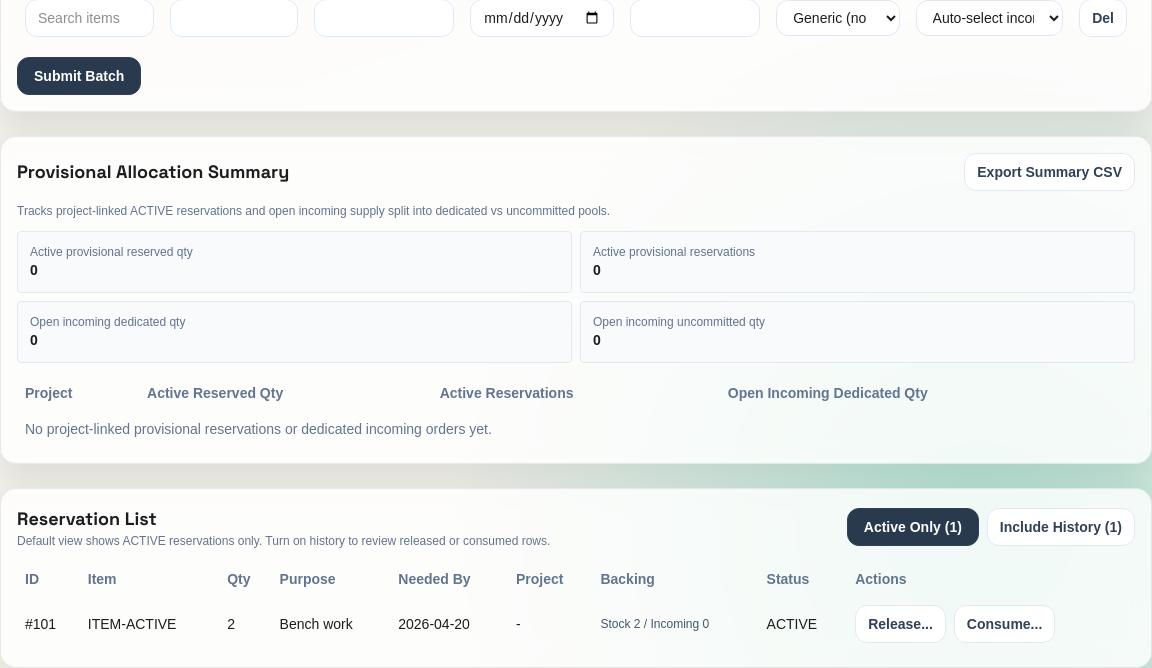
ReservationsPage › shows released history rows when history is enabled
(page scrolled)
expect the element "Reservation List" is shown: met, box [0,488,1151,667]
What coordinates should you click on to do the following:
click the button "Include History (1)"
I would click on:
 (1061, 527)
Its box is [987,508,1135,546].
(page scrolled)
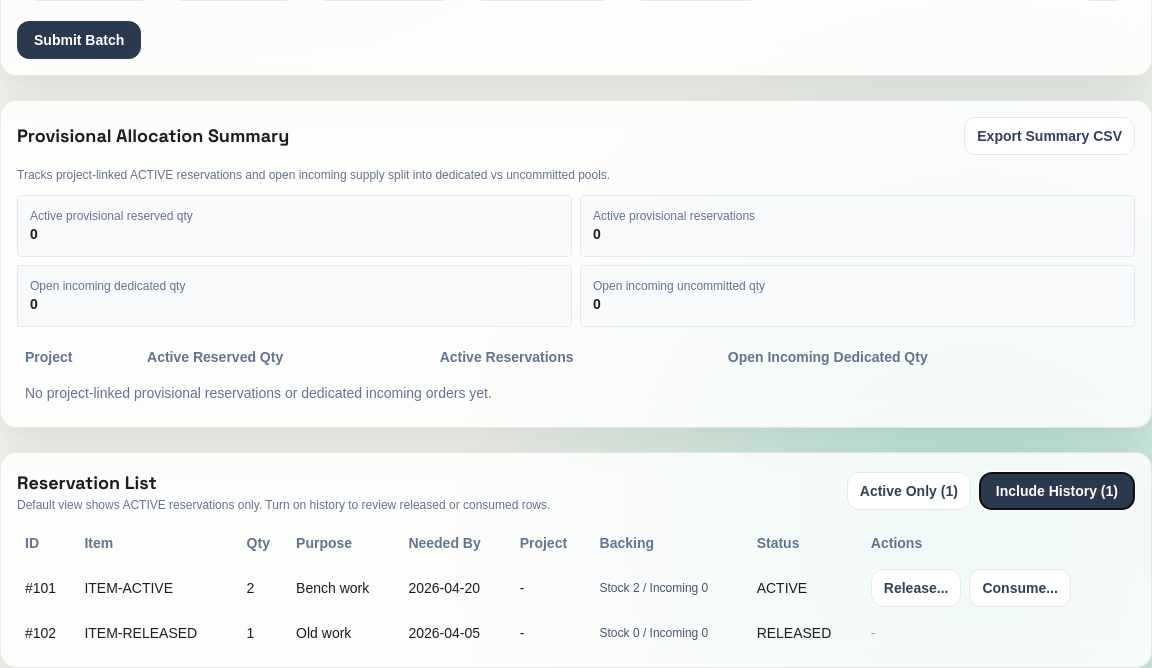
expect the text "ITEM-RELEASED" is shown: met, box [76,615,239,651]
expect the text "RELEASED" is shown: met, box [749,615,863,651]
